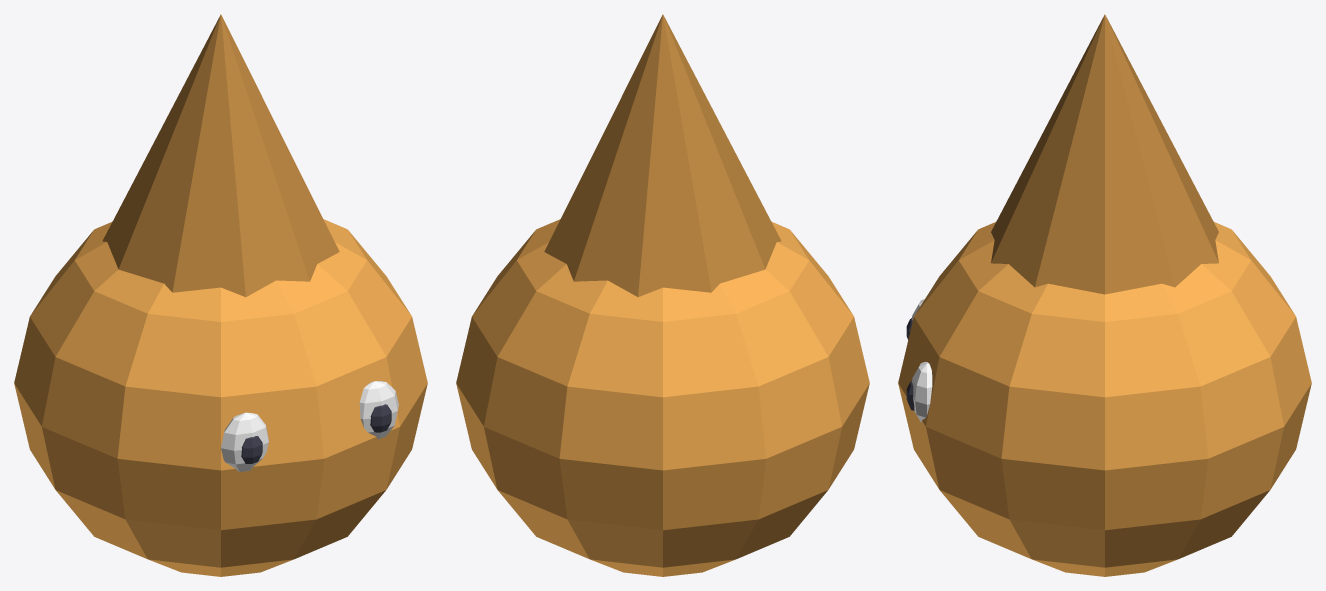
The model's file is deflagron.glb.
The picture shows the model from 3 angles, left to right: view 1: azimuth 30°, elevation 25°; view 2: azimuth 150°, elevation 25°; view 3: azimuth 270°, elevation 25°; orthographic projection.
Visible parts, largest first — view 1: deflagron; view 2: deflagron; view 3: deflagron.
Part boxes in pixels (x1,y1,x2,y2): deflagron: [14, 14, 427, 576]; deflagron: [456, 14, 869, 576]; deflagron: [898, 14, 1311, 576].
Bounding box in the file's own units: 1.52 × 2.2 × 1.52.
